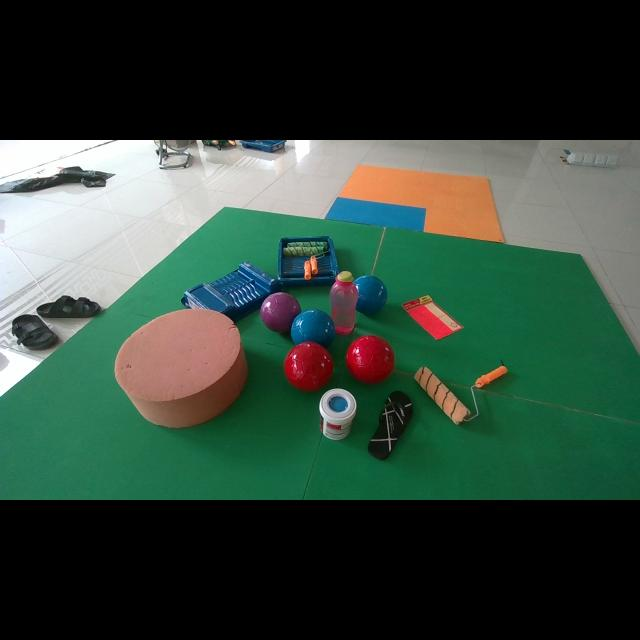B: (291, 309, 335, 349), (354, 275, 388, 314)
P: (260, 292, 301, 333)
R: (284, 341, 334, 391), (345, 335, 395, 384)
